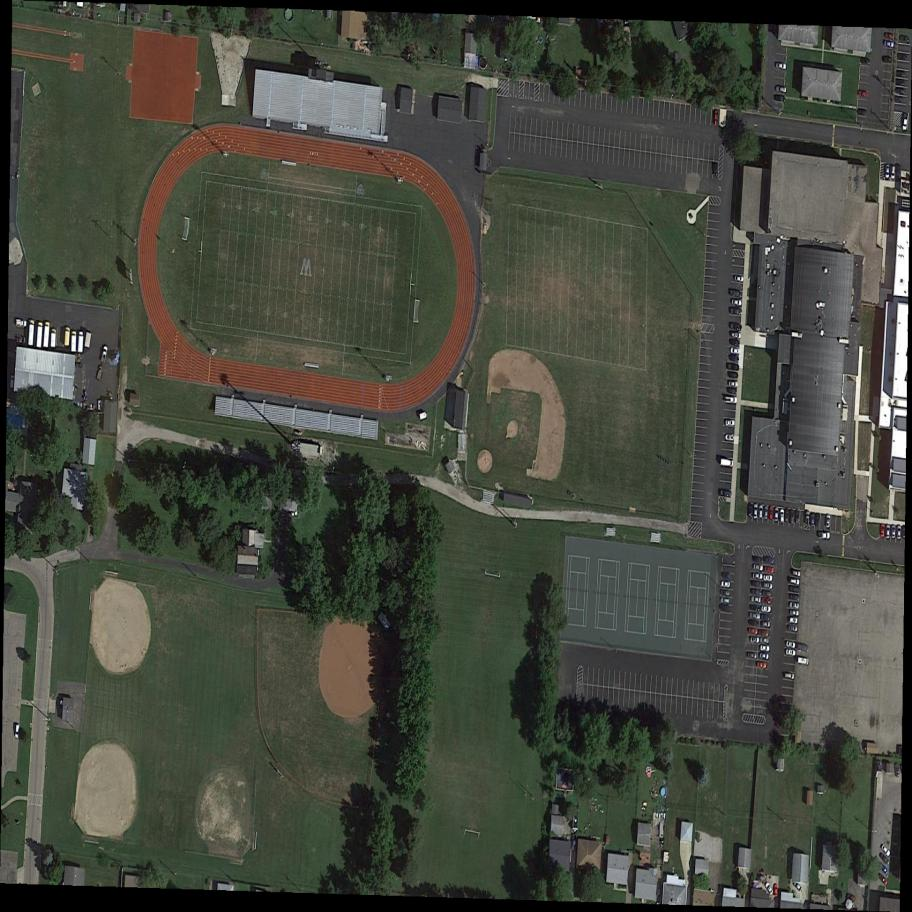small-vehicle: (27, 319, 36, 347), (36, 321, 44, 349), (43, 321, 51, 349), (99, 345, 110, 363), (879, 843, 893, 857), (791, 879, 804, 893), (877, 873, 890, 887), (878, 853, 891, 866), (878, 862, 890, 876), (761, 554, 776, 565), (795, 642, 810, 653), (763, 880, 774, 895), (77, 331, 84, 354), (50, 329, 58, 349), (64, 326, 71, 346), (729, 306, 743, 316), (718, 489, 733, 498), (71, 331, 77, 353), (727, 353, 740, 363), (728, 338, 741, 348), (749, 580, 762, 589), (726, 387, 739, 396), (718, 603, 731, 612), (797, 657, 810, 666), (726, 363, 740, 371), (14, 723, 21, 739), (724, 433, 735, 443), (729, 346, 741, 355), (729, 322, 741, 331), (785, 640, 797, 649), (845, 893, 857, 902), (731, 298, 743, 307), (712, 162, 719, 177), (720, 459, 733, 467), (726, 372, 739, 380), (882, 40, 895, 48), (16, 319, 27, 328), (791, 569, 802, 578), (893, 762, 900, 776), (890, 165, 897, 179), (750, 588, 762, 596), (749, 612, 761, 620), (725, 396, 737, 404), (758, 629, 770, 637), (896, 525, 902, 541), (788, 602, 800, 610), (818, 531, 830, 539), (730, 289, 742, 297), (775, 62, 787, 70), (775, 84, 787, 92), (859, 56, 871, 64), (788, 586, 801, 593), (825, 513, 831, 528), (896, 69, 906, 78), (748, 627, 759, 635), (725, 419, 736, 427), (760, 645, 771, 653), (789, 578, 800, 586), (774, 94, 785, 102), (895, 88, 906, 96), (753, 503, 758, 520), (748, 620, 760, 627), (763, 566, 775, 573), (752, 564, 764, 571), (746, 652, 758, 659), (768, 506, 774, 520), (763, 506, 769, 520), (902, 118, 908, 132), (857, 90, 869, 97), (856, 108, 868, 115), (761, 597, 771, 605), (750, 636, 760, 644), (774, 507, 779, 523), (780, 508, 785, 524), (713, 110, 718, 126), (896, 164, 901, 180), (882, 55, 892, 63), (897, 53, 907, 61), (750, 596, 761, 603), (763, 574, 774, 581), (727, 381, 738, 388), (759, 637, 770, 644), (787, 625, 798, 632), (785, 649, 796, 656), (883, 32, 894, 39), (898, 35, 909, 42), (885, 525, 890, 540), (891, 525, 896, 540), (885, 164, 890, 179), (795, 510, 800, 525), (721, 581, 731, 588), (720, 590, 730, 597), (720, 598, 730, 605), (10, 375, 15, 389), (759, 653, 769, 660), (810, 513, 815, 527), (784, 673, 794, 680), (789, 594, 799, 601), (734, 275, 744, 282), (747, 504, 752, 518), (816, 513, 821, 527), (880, 524, 885, 538), (761, 606, 772, 612), (762, 583, 773, 589), (761, 591, 772, 597), (750, 605, 761, 611), (752, 573, 763, 579), (791, 510, 795, 526), (721, 572, 730, 579), (753, 557, 762, 564), (894, 96, 903, 103), (760, 615, 770, 621), (757, 662, 767, 668), (760, 621, 770, 627), (790, 610, 800, 616), (789, 618, 799, 624), (895, 79, 905, 85), (16, 337, 24, 344), (732, 332, 741, 338), (774, 884, 778, 897), (805, 512, 809, 525), (759, 506, 763, 518), (785, 509, 789, 521)
